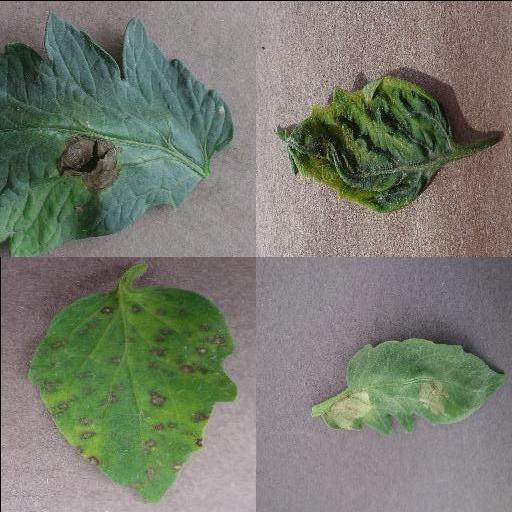Early Blight: (1, 16, 233, 254)
Late Blight: (323, 335, 507, 435)
Septoria: (28, 283, 234, 503)
Yellow Leaf Curl Virus: (278, 77, 454, 213)
